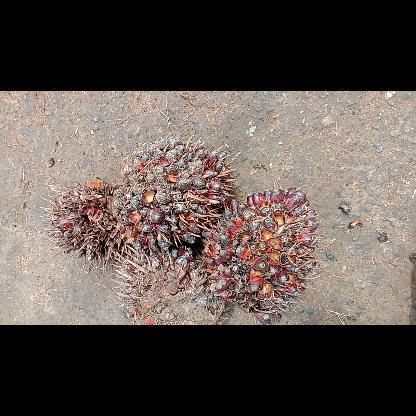TBS abnormal: (202, 186, 320, 324), (114, 134, 236, 250), (112, 246, 226, 324), (40, 182, 124, 274)
